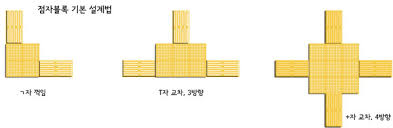guide_blocks: (310, 43, 359, 93), (155, 45, 205, 76), (5, 43, 38, 77), (325, 93, 342, 128), (172, 11, 190, 44), (358, 60, 393, 76), (39, 60, 71, 76), (123, 60, 154, 76), (208, 61, 239, 77), (325, 11, 341, 42), (275, 62, 308, 77), (6, 11, 22, 41)
